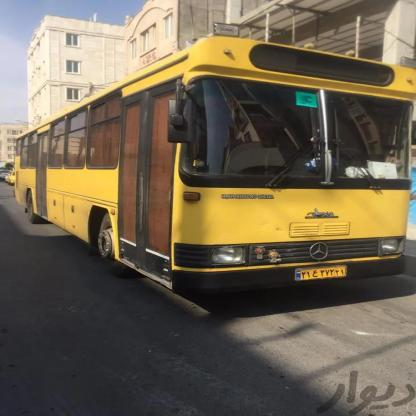Bus: (6, 20, 406, 304)
